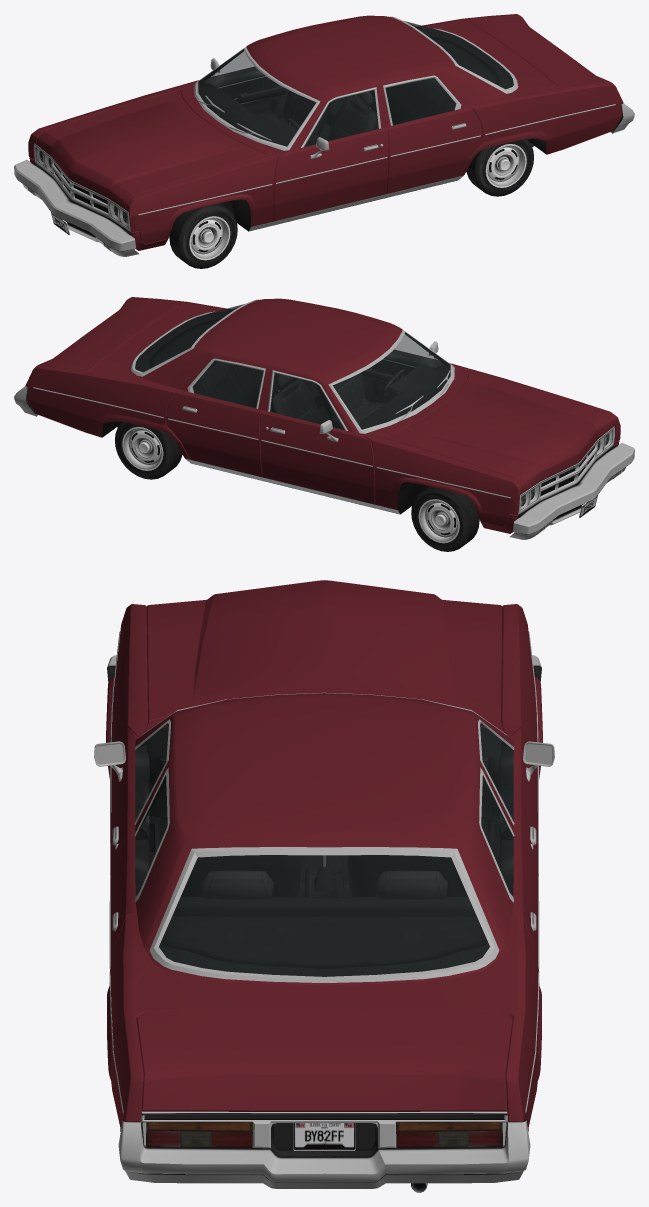
File: fullsize73.glb
3 renders of one model, top to bottom at view 1: azimuth 30°, elevation 25°; view 2: azimuth 150°, elevation 25°; view 3: azimuth 270°, elevation 25°, orthographic. The views are drawn at different scales.
Parts seen in each view (by area): view 1: Chapman73_Body_Chapman73_Body_0, Chapman73_Hood_Chapman73_Body_0, Chapman73_Interior_GEN4DR_INTERIOR_0, Chapman73_Bottom_UCB_BOTTOM_LT_0, Chapman73_Windshield_UCB_GLASS_CLEAN_0, Chapman73_Glass_Body_UCB_GLASS_CLEAN_0, Chapman73_Trunk_Door_Chapman73_Body_0, Chapman73_Bumper_Front_UCB_BOTTOM_LT_0, Chapman73_Wheel_FL_RB1c_Tire_0, Chapman73_Wheel_RL_RB1c_Tire_0, Chapman73_Glass_Rear_UCB_GLASS_CLEAN_0; view 2: Chapman73_Body_Chapman73_Body_0, Chapman73_Hood_Chapman73_Body_0, Chapman73_Interior_GEN4DR_INTERIOR_0, Chapman73_Bottom_UCB_BOTTOM_LT_0, Chapman73_Windshield_UCB_GLASS_CLEAN_0, Chapman73_Glass_Body_UCB_GLASS_CLEAN_0, Chapman73_Trunk_Door_Chapman73_Body_0, Chapman73_Bumper_Front_UCB_BOTTOM_LT_0, Chapman73_Wheel_FR_RB1c_Tire_0, Chapman73_Wheel_RR_RB1c_Tire_0, Chapman73_Glass_Rear_UCB_GLASS_CLEAN_0; view 3: Chapman73_Body_Chapman73_Body_0, Chapman73_Interior_GEN4DR_INTERIOR_0, Chapman73_Hood_Chapman73_Body_0, Chapman73_Trunk_Door_Chapman73_Body_0, Chapman73_Glass_Rear_UCB_GLASS_CLEAN_0, Chapman73_Bottom_UCB_BOTTOM_LT_0, Chapman73_Bumper_Rear_UCB_BOTTOM_LT_0, Chapman73_Glass_Body_UCB_GLASS_CLEAN_0, Chapman73_Brakelight_glass_Riverside88_lights_0, Chapman73_Blinkers_Riverside88_lights_0, Chapman73_Numberplate_rear_Numberplates_Generic_USA_0, Chapman73_Stoplight_glass_Riverside88_lights_0.
Part boxes in pixels (<box>): Chapman73_Body_Chapman73_Body_0: <box>28,14,623,250</box>; Chapman73_Hood_Chapman73_Body_0: <box>36,90,267,209</box>; Chapman73_Interior_GEN4DR_INTERIOR_0: <box>198,24,513,147</box>; Chapman73_Bottom_UCB_BOTTOM_LT_0: <box>30,16,615,235</box>; Chapman73_Windshield_UCB_GLASS_CLEAN_0: <box>198,49,315,146</box>; Chapman73_Glass_Body_UCB_GLASS_CLEAN_0: <box>304,78,455,147</box>; Chapman73_Trunk_Door_Chapman73_Body_0: <box>469,16,610,88</box>; Chapman73_Bumper_Front_UCB_BOTTOM_LT_0: <box>14,160,138,256</box>; Chapman73_Wheel_FL_RB1c_Tire_0: <box>169,203,237,268</box>; Chapman73_Wheel_RL_RB1c_Tire_0: <box>466,139,533,196</box>; Chapman73_Glass_Rear_UCB_GLASS_CLEAN_0: <box>404,21,513,88</box>; Chapman73_Body_Chapman73_Body_0: <box>25,297,620,533</box>; Chapman73_Hood_Chapman73_Body_0: <box>381,373,612,492</box>; Chapman73_Interior_GEN4DR_INTERIOR_0: <box>135,307,450,430</box>; Chapman73_Bottom_UCB_BOTTOM_LT_0: <box>33,299,618,518</box>; Chapman73_Windshield_UCB_GLASS_CLEAN_0: <box>333,332,450,429</box>; Chapman73_Glass_Body_UCB_GLASS_CLEAN_0: <box>193,361,344,430</box>; Chapman73_Trunk_Door_Chapman73_Body_0: <box>38,299,179,371</box>; Chapman73_Bumper_Front_UCB_BOTTOM_LT_0: <box>510,443,634,539</box>; Chapman73_Wheel_FR_RB1c_Tire_0: <box>411,486,479,551</box>; Chapman73_Wheel_RR_RB1c_Tire_0: <box>115,422,182,479</box>; Chapman73_Glass_Rear_UCB_GLASS_CLEAN_0: <box>135,304,244,371</box>; Chapman73_Body_Chapman73_Body_0: <box>106,604,542,1129</box>; Chapman73_Interior_GEN4DR_INTERIOR_0: <box>135,726,513,976</box>; Chapman73_Hood_Chapman73_Body_0: <box>146,580,502,721</box>; Chapman73_Trunk_Door_Chapman73_Body_0: <box>136,1010,512,1111</box>; Chapman73_Glass_Rear_UCB_GLASS_CLEAN_0: <box>159,855,489,976</box>; Chapman73_Bottom_UCB_BOTTOM_LT_0: <box>94,631,554,1192</box>; Chapman73_Bumper_Rear_UCB_BOTTOM_LT_0: <box>118,1119,530,1188</box>; Chapman73_Glass_Body_UCB_GLASS_CLEAN_0: <box>135,723,513,895</box>; Chapman73_Brakelight_glass_Riverside88_lights_0: <box>145,1130,503,1147</box>; Chapman73_Blinkers_Riverside88_lights_0: <box>146,1121,502,1132</box>; Chapman73_Numberplate_rear_Numberplates_Generic_USA_0: <box>293,1123,355,1150</box>; Chapman73_Stoplight_glass_Riverside88_lights_0: <box>180,1131,468,1147</box>.
Size of the model in its own units: 5.66 by 1.39 by 2.12.
7 materials, 6 textured.
